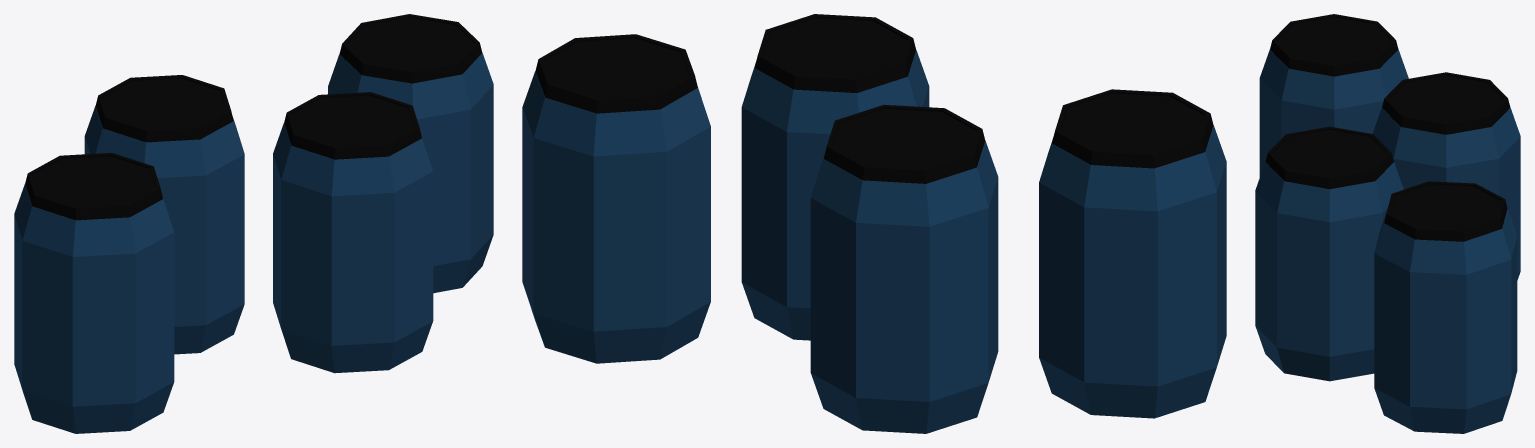
File: barrels4.fbx
3 renders of one model, left to right at view 1: azimuth 30°, elevation 25°; view 2: azimuth 150°, elevation 25°; view 3: azimuth 270°, elevation 25°, orthographic. The views are drawn at different scales.
Parts seen in each view (by area): view 1: Cylinder.001, Cylinder.002, Cylinder.006, Cylinder.003; view 2: Cylinder.003, Cylinder.006, Cylinder.001, Cylinder.002; view 3: Cylinder.003, Cylinder.002, Cylinder.001, Cylinder.006.
Boxes of the visible parts, x1=… form: Cylinder.001: x1=14, y1=153, x2=174, y2=433; Cylinder.002: x1=273, y1=92, x2=433, y2=373; Cylinder.006: x1=84, y1=75, x2=244, y2=354; Cylinder.003: x1=328, y1=14, x2=493, y2=293; Cylinder.003: x1=522, y1=34, x2=710, y2=363; Cylinder.006: x1=810, y1=105, x2=998, y2=433; Cylinder.001: x1=1039, y1=89, x2=1226, y2=418; Cylinder.002: x1=741, y1=14, x2=929, y2=340; Cylinder.003: x1=1374, y1=181, x2=1517, y2=433; Cylinder.002: x1=1255, y1=126, x2=1403, y2=381; Cylinder.001: x1=1259, y1=14, x2=1408, y2=177; Cylinder.006: x1=1372, y1=72, x2=1520, y2=280.
Size of the model in its own units: 2.14 by 0.8822 by 1.05.
